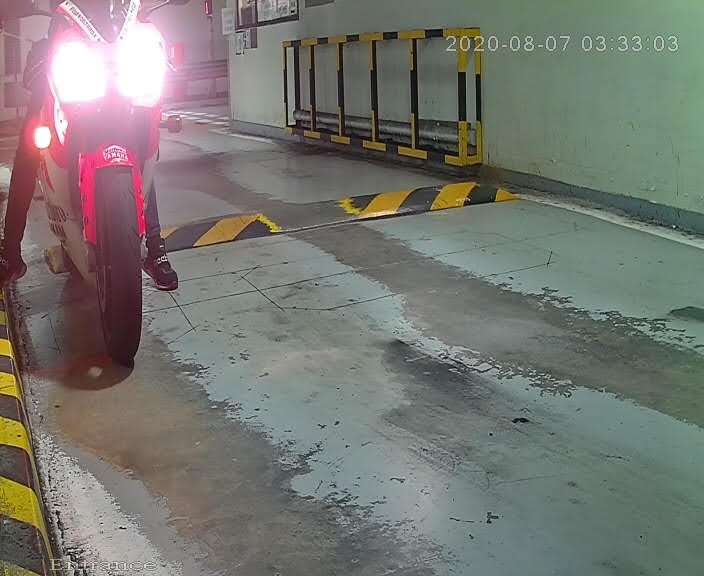motorcycle: (2, 1, 187, 385)
